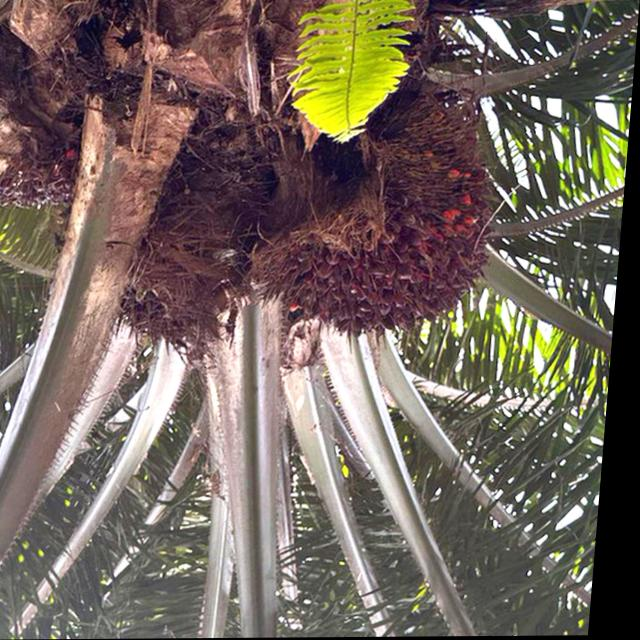ripe: (249, 111, 509, 347), (112, 262, 243, 371), (0, 125, 90, 221)
